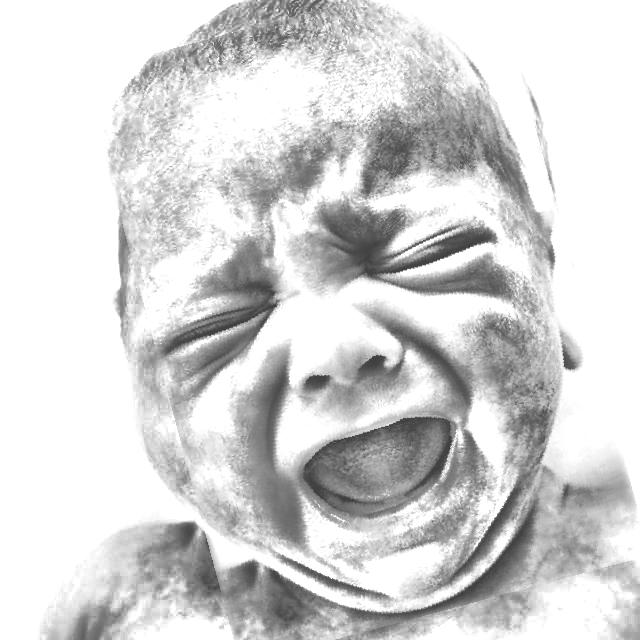sad: (118, 0, 613, 640)
